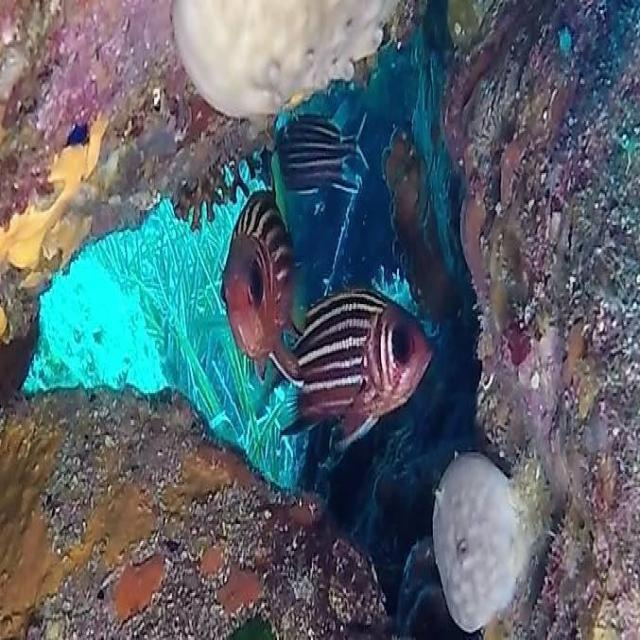Asker Baligi: (263, 271, 441, 444), (223, 148, 306, 396)
